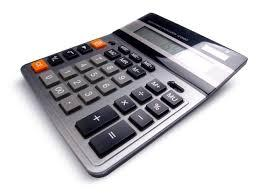Calculator: (19, 7, 247, 179)
